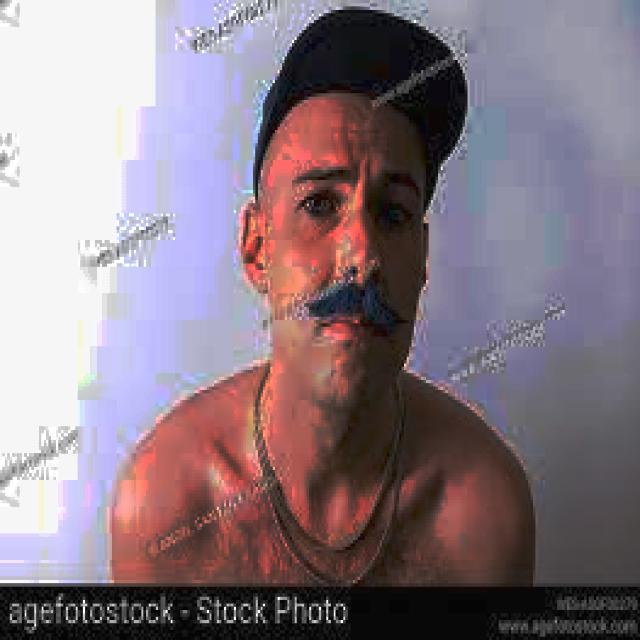TOPI: (248, 3, 467, 217)
